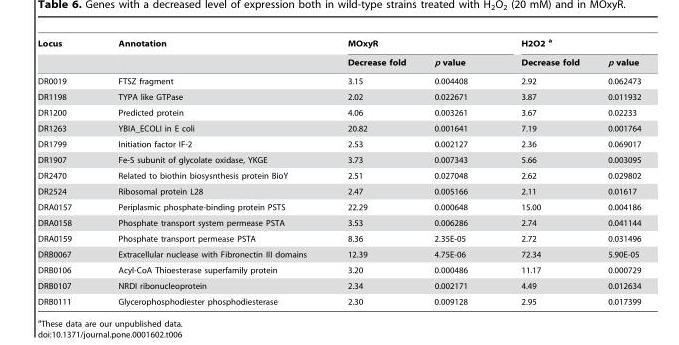table: (37, 37, 640, 305)
table column: (94, 37, 326, 305), (493, 37, 592, 305), (326, 37, 419, 305), (419, 37, 493, 305), (37, 37, 94, 305), (592, 37, 640, 305)
table column header: (37, 37, 640, 71)
table row: (37, 52, 640, 71), (37, 71, 640, 88), (37, 88, 640, 104), (37, 104, 640, 120), (37, 120, 640, 136), (37, 151, 640, 167), (37, 167, 640, 183), (37, 183, 640, 199), (37, 214, 640, 230), (37, 230, 640, 246), (37, 246, 640, 262), (37, 277, 640, 293), (37, 37, 640, 52), (37, 136, 640, 151), (37, 199, 640, 214), (37, 262, 640, 277), (37, 293, 640, 305)
table spanning cell: (94, 37, 326, 71), (326, 37, 493, 52), (493, 37, 640, 52), (37, 37, 94, 71)
